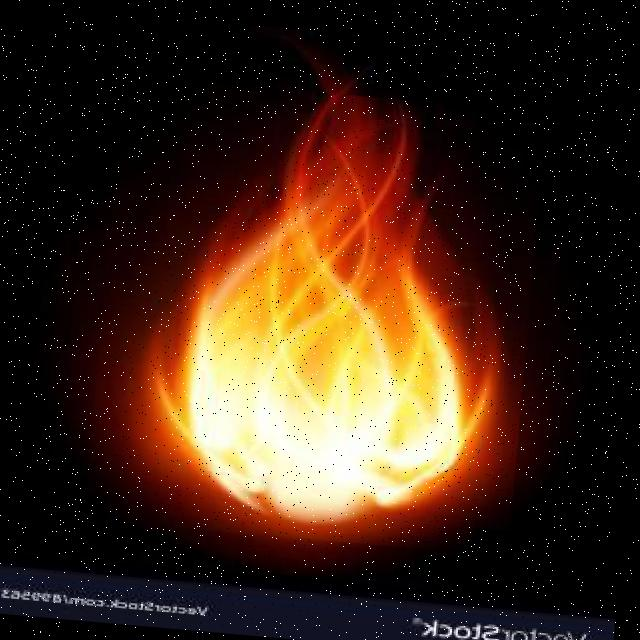fire: (84, 75, 546, 556)
